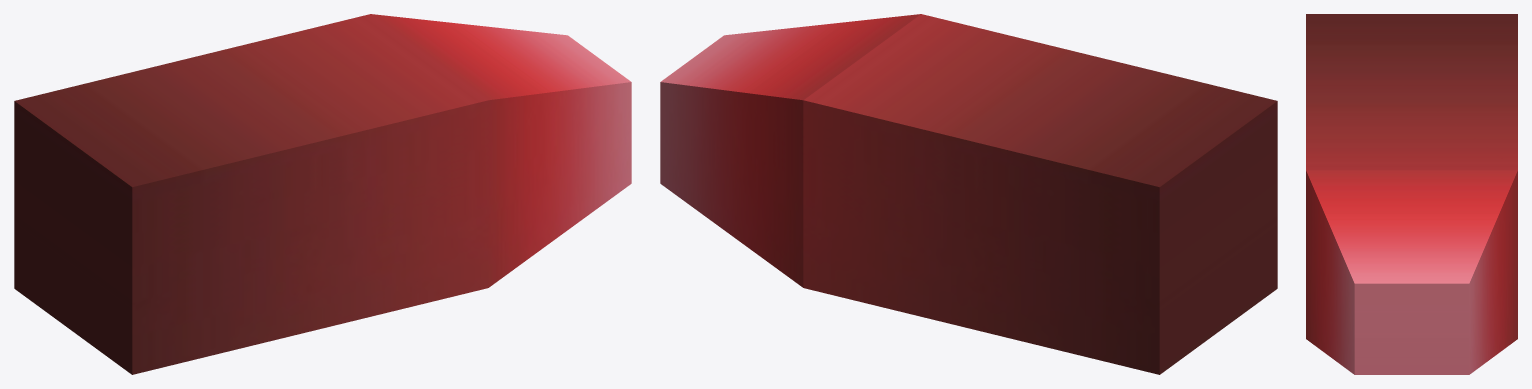
Rendered from ammo_type2_placeholder_v001.fbx.
3 renders of one model, left to right at view 1: azimuth 30°, elevation 25°; view 2: azimuth 150°, elevation 25°; view 3: azimuth 270°, elevation 25°, orthographic. The views are drawn at different scales.
Parts seen in each view (by area): view 1: ammo.002; view 2: ammo.002; view 3: ammo.002.
Boxes of the visible parts, left/top/right/bottom form: ammo.002: left=14, top=14, right=631, bottom=374; ammo.002: left=660, top=14, right=1277, bottom=374; ammo.002: left=1306, top=14, right=1517, bottom=374.
Size of the model in its own units: 23.1 by 59.57 by 20.3.
1 material, 1 textured.
